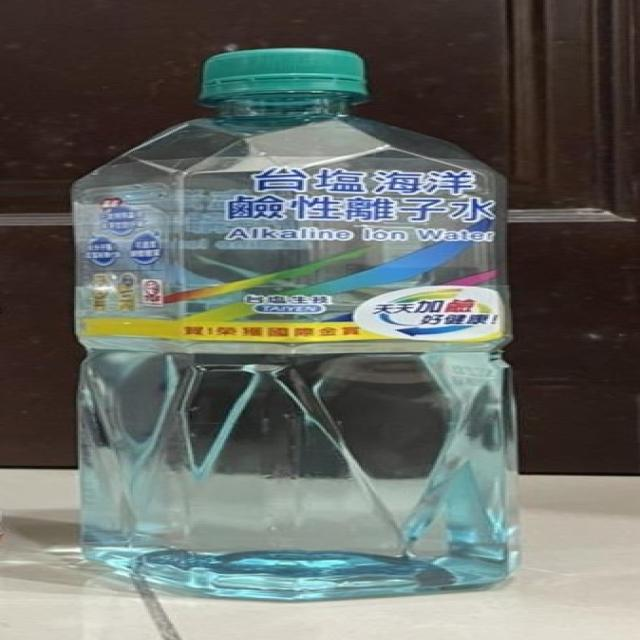medium: (74, 48, 517, 599)
